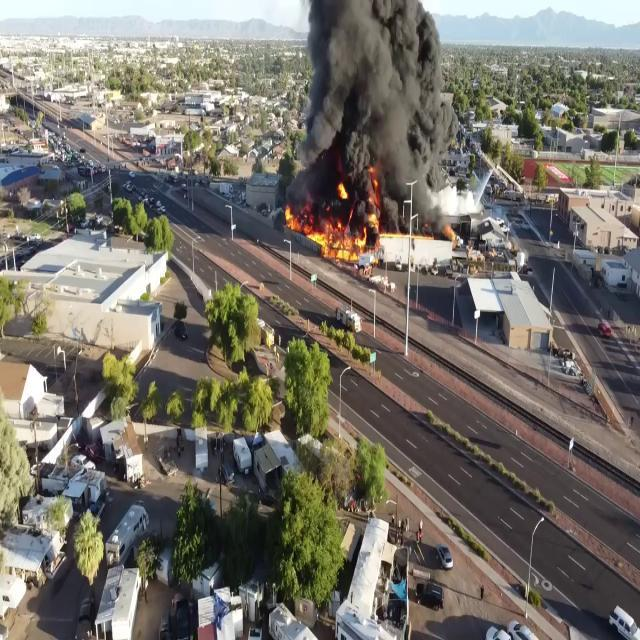Fire: (282, 200, 376, 260)
Smoke: (283, 0, 473, 207)
